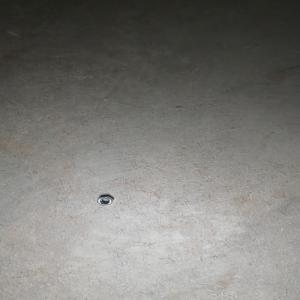Nut: (96, 195, 114, 205)
